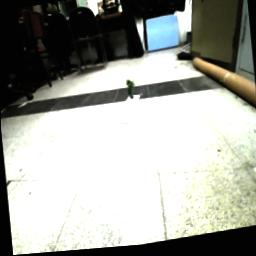herb: (125, 78, 137, 102)
